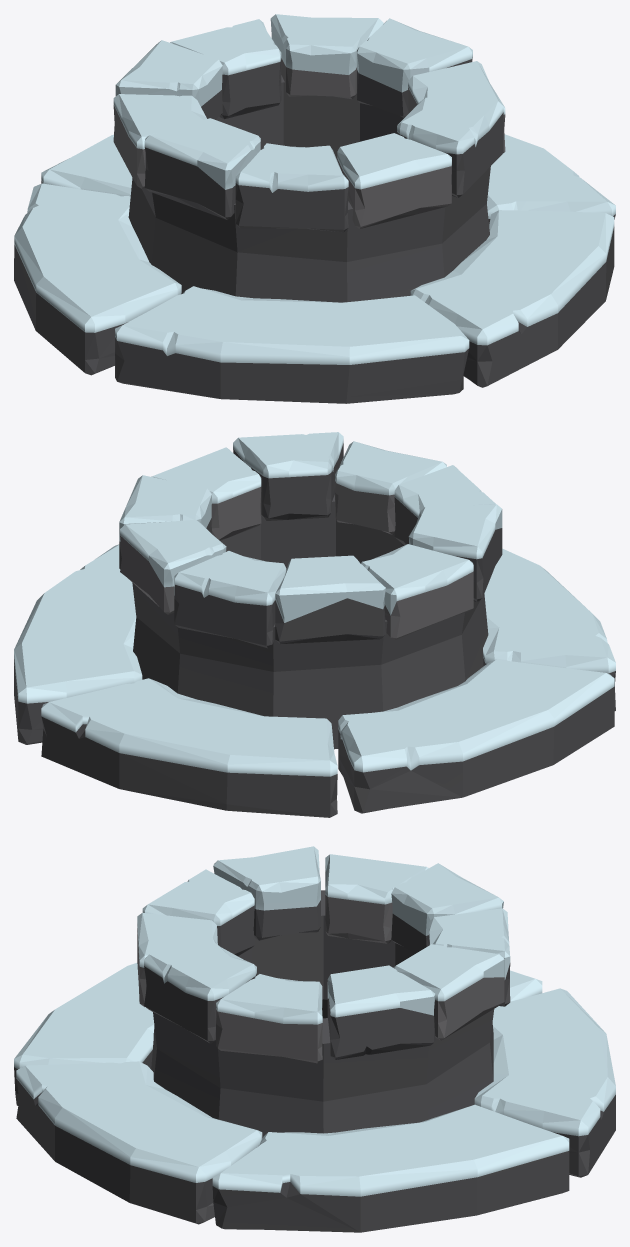
The model's file is SM_Bld_Village_Well_01_Snow.gltf.
3 views of the same model, one above another, from view 1: azimuth 30°, elevation 25°; view 2: azimuth 150°, elevation 25°; view 3: azimuth 270°, elevation 25° (orthographic).
Visible parts, largest first — view 1: SM_Bld_Village_Well_01_Snow; view 2: SM_Bld_Village_Well_01_Snow; view 3: SM_Bld_Village_Well_01_Snow.
Part boxes in pixels (x1,y1,x2,y2): SM_Bld_Village_Well_01_Snow: [14, 14, 615, 403]; SM_Bld_Village_Well_01_Snow: [14, 432, 615, 817]; SM_Bld_Village_Well_01_Snow: [14, 846, 615, 1232].
Size of the model in its own units: 3.06 by 1.06 by 3.08.
Materials: 1 (1 with a texture image).
